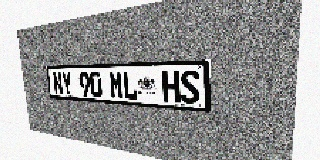0: (89, 71, 102, 98)
9: (78, 72, 91, 97)
H: (162, 70, 180, 103)
L: (122, 71, 138, 100)
M: (109, 71, 124, 99)
N: (52, 72, 63, 95)
S: (180, 70, 200, 104)
Y: (61, 72, 73, 96)
